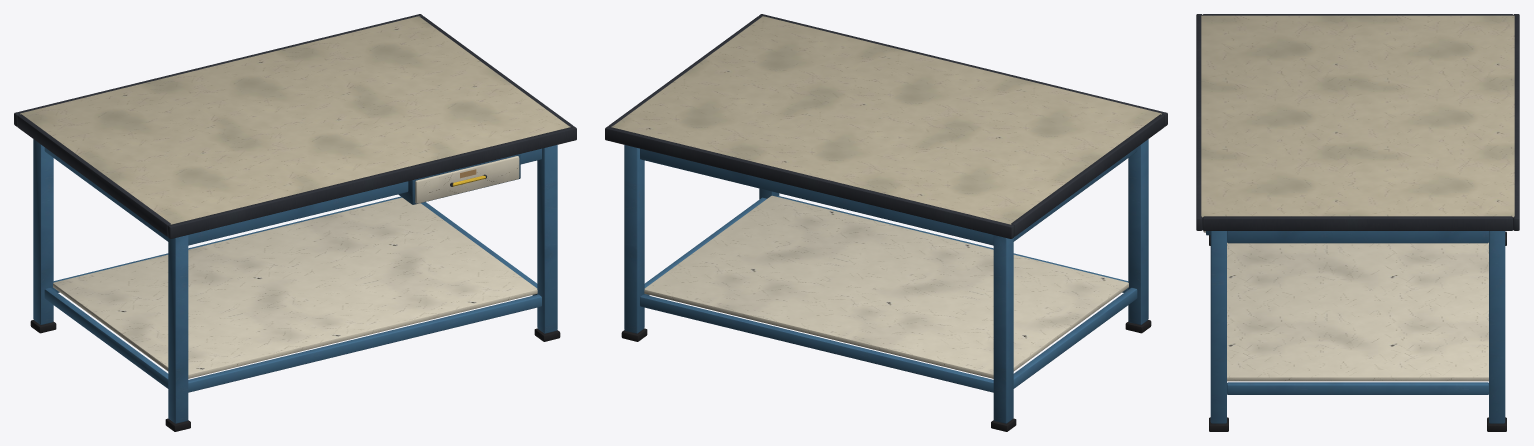
File: metal_table.glb
The picture shows the model from 3 angles, left to right: view 1: azimuth 30°, elevation 25°; view 2: azimuth 150°, elevation 25°; view 3: azimuth 270°, elevation 25°; orthographic projection. The views are drawn at different scales.
Parts seen in each view (by area): view 1: MetalTableBody; view 2: MetalTableBody; view 3: MetalTableBody.
Boxes of the visible parts, x1,y1,x2,y2 form: MetalTableBody: [14, 14, 576, 431]; MetalTableBody: [605, 14, 1167, 431]; MetalTableBody: [1196, 14, 1519, 431].
Size of the model in its own units: 1.5 by 0.748 by 1.
9 materials, 9 textured.
